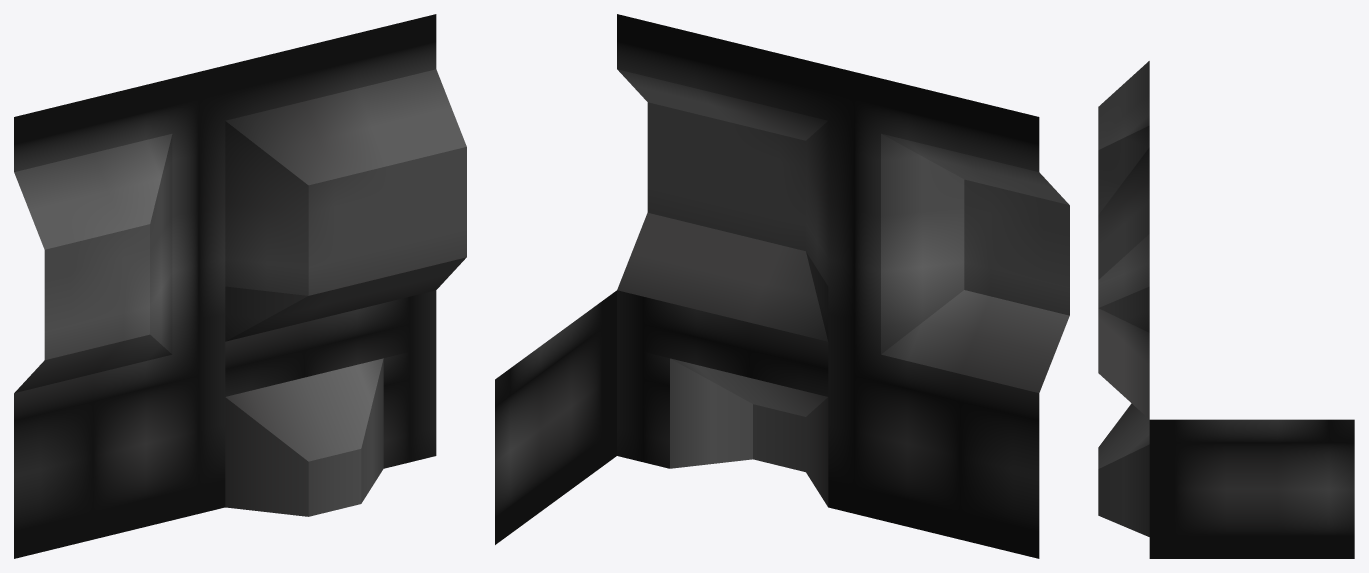
The model's file is door_frame_top_left.obj.
3 views of the same model, side by side, from view 1: azimuth 30°, elevation 25°; view 2: azimuth 150°, elevation 25°; view 3: azimuth 270°, elevation 25° (orthographic). The views are drawn at different scales.
Parts seen in each view (by area): view 1: Default; view 2: Default; view 3: Default.
Part boxes in pixels (x1=…): Default: x1=14, y1=14, x2=466, y2=558; Default: x1=495, y1=14, x2=1069, y2=558; Default: x1=1098, y1=61, x2=1354, y2=558.
Bounding box in the file's own units: 1 × 1 × 0.625.
